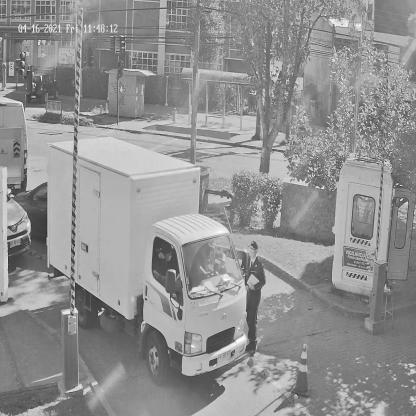Patente: (216, 348, 232, 366)
